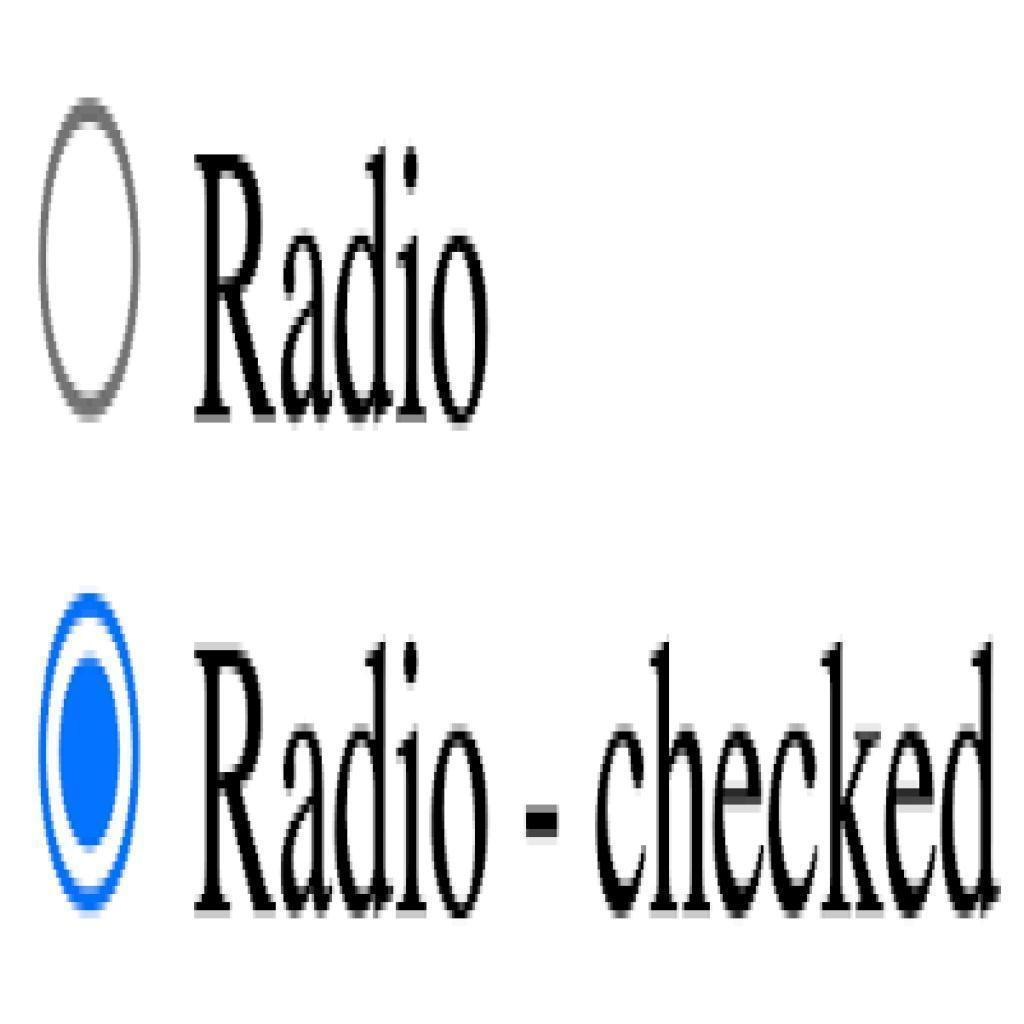radio: (34, 597, 143, 914), (38, 97, 140, 423)
